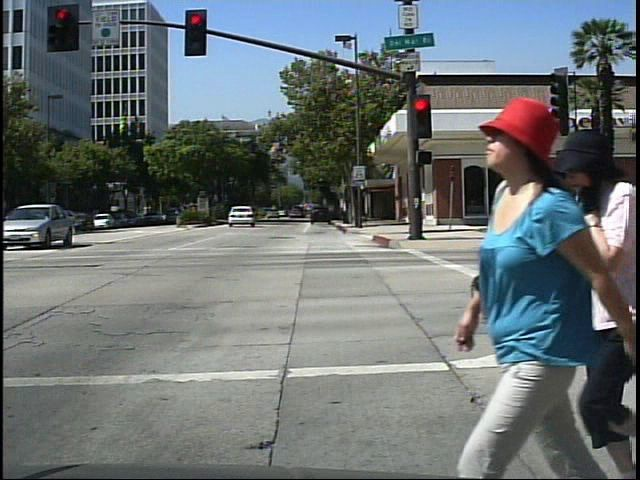person: (466, 77, 636, 480)
